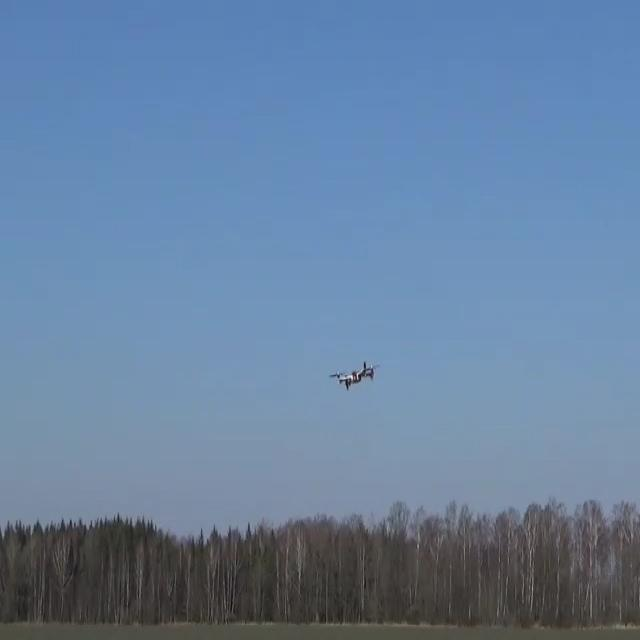drone: (328, 360, 379, 390)
